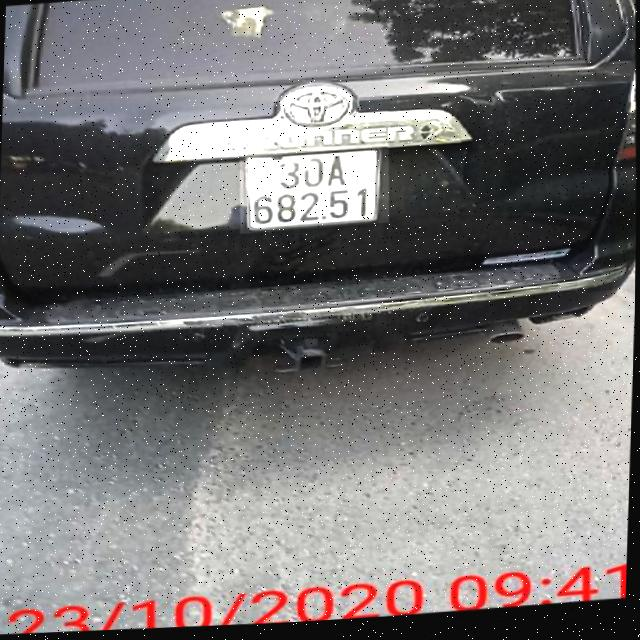car: (0, 0, 640, 413)
plate: (235, 137, 387, 239)
